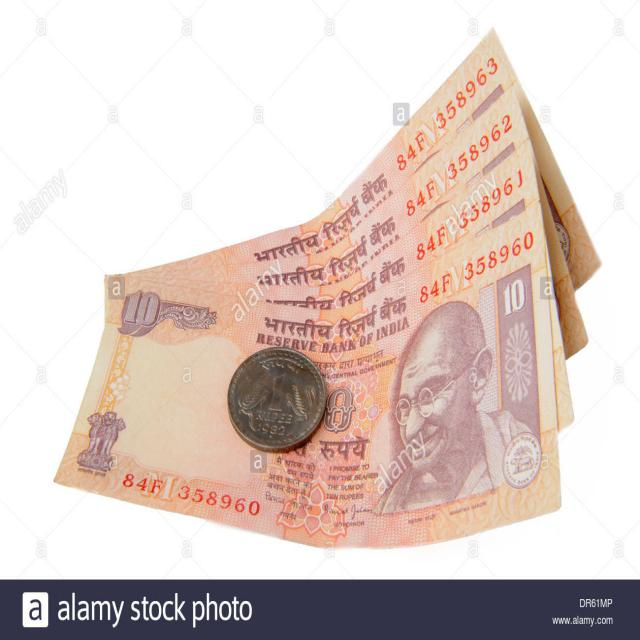10IndianRupees: (57, 245, 563, 538)
